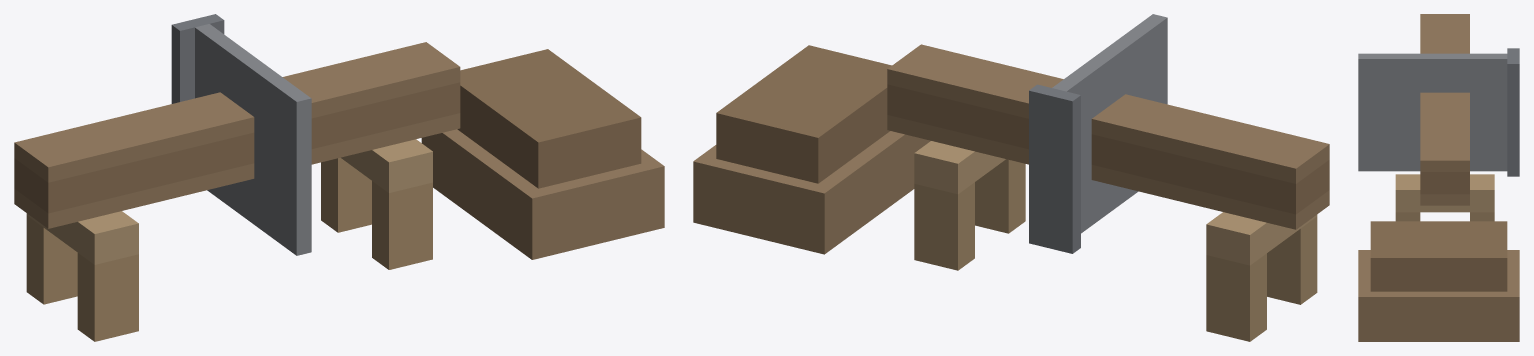
File: scierie.glb
3 renders of one model, left to right at view 1: azimuth 30°, elevation 25°; view 2: azimuth 150°, elevation 25°; view 3: azimuth 270°, elevation 25°, orthographic. The views are drawn at different scales.
Parts seen in each view (by area): view 1: geometry_0; view 2: geometry_0; view 3: geometry_0.
Boxes of the visible parts, x1,y1,x2,y2 form: geometry_0: [14, 14, 664, 341]; geometry_0: [693, 14, 1329, 341]; geometry_0: [1358, 14, 1519, 341].
Size of the model in its own units: 4.88 by 1.75 by 1.62.
